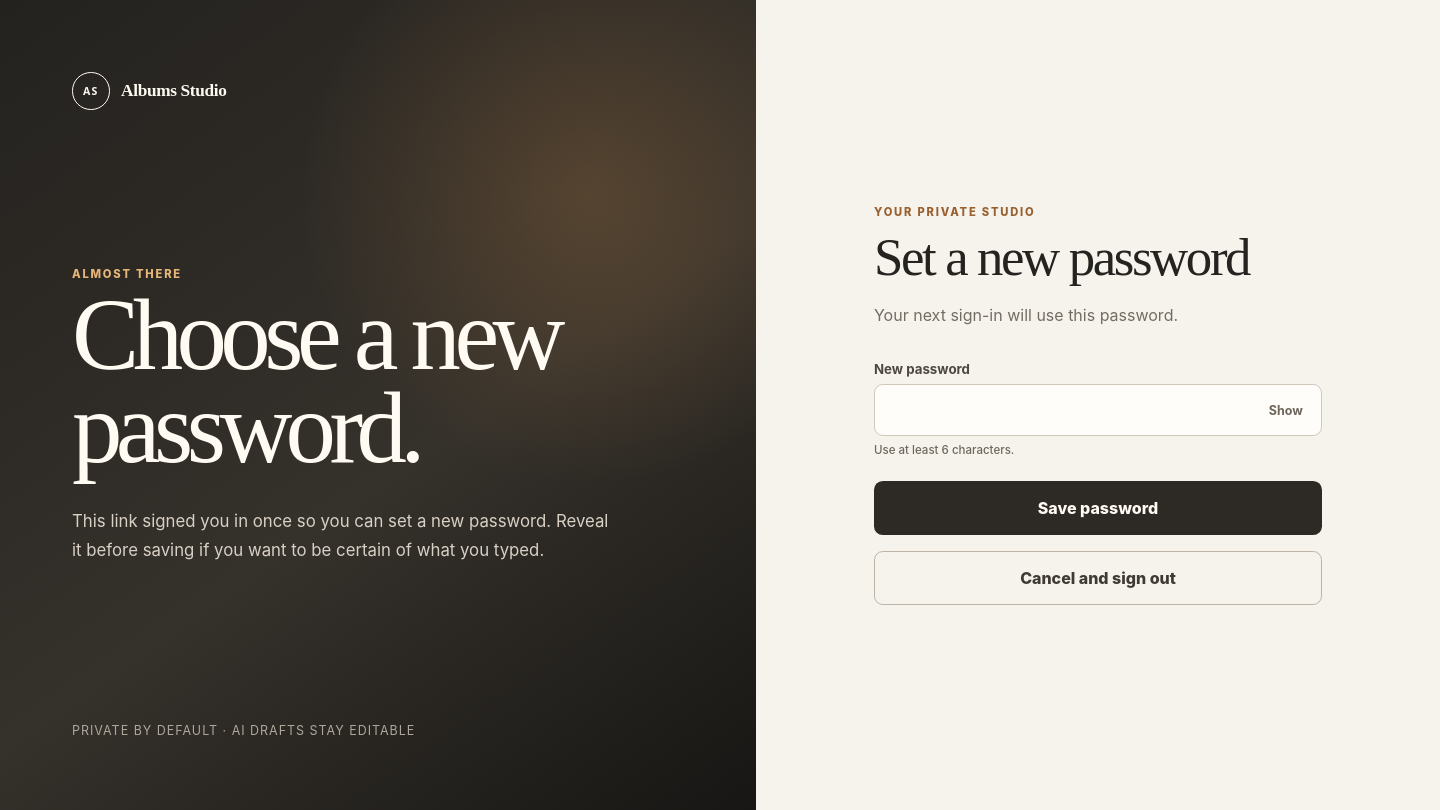
it: App › saves a new password and then opens the library
Later steps or results of the test are not shown.
Expected: the heading "Set a new password" is shown, x1=874 y1=228 x2=1249 y2=286
Type "chosen-password" into the password field labelled "New password" at (1098, 410), box x1=874 y1=384 x2=1322 y2=436
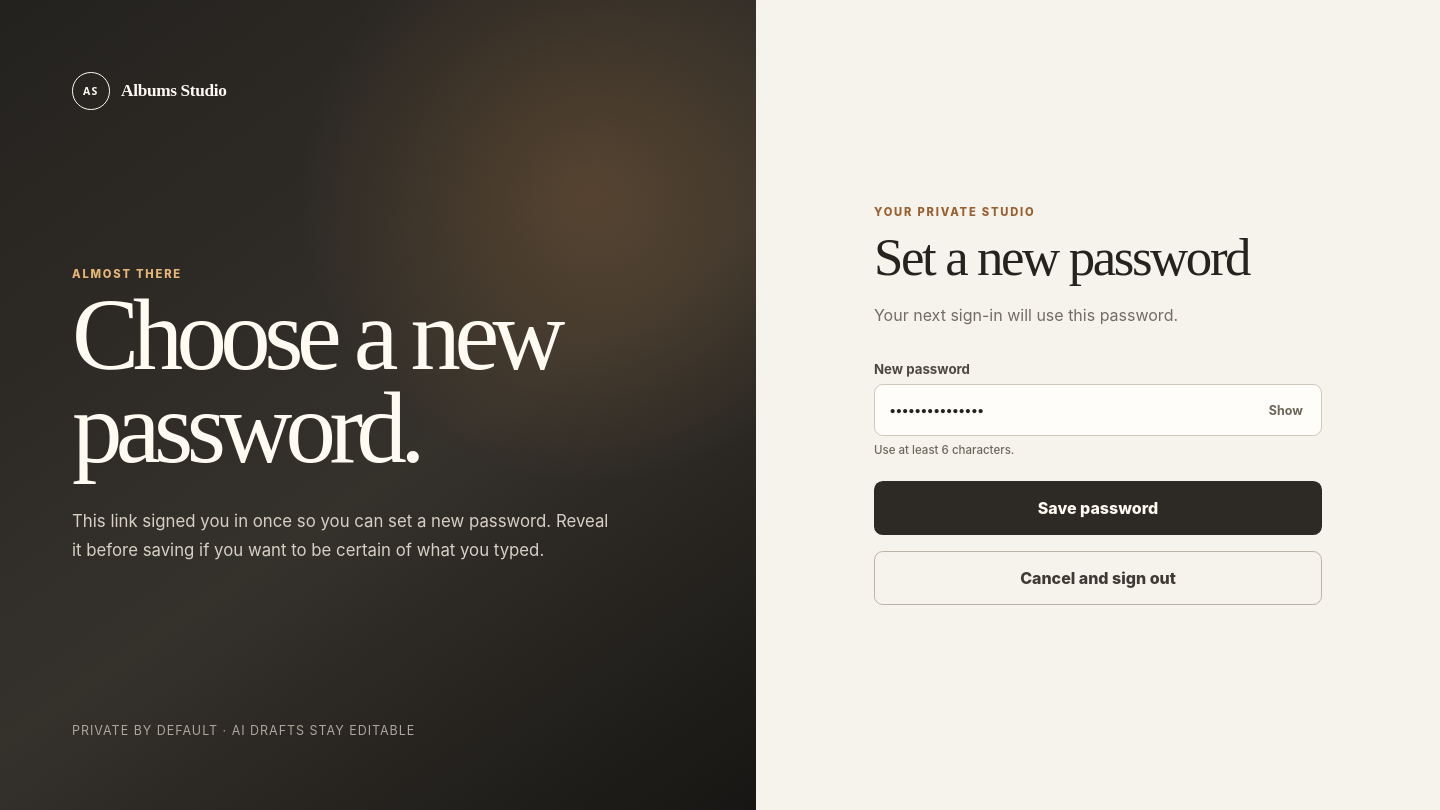
Click the button "Save password" at (1098, 508), box x1=874 y1=481 x2=1322 y2=535
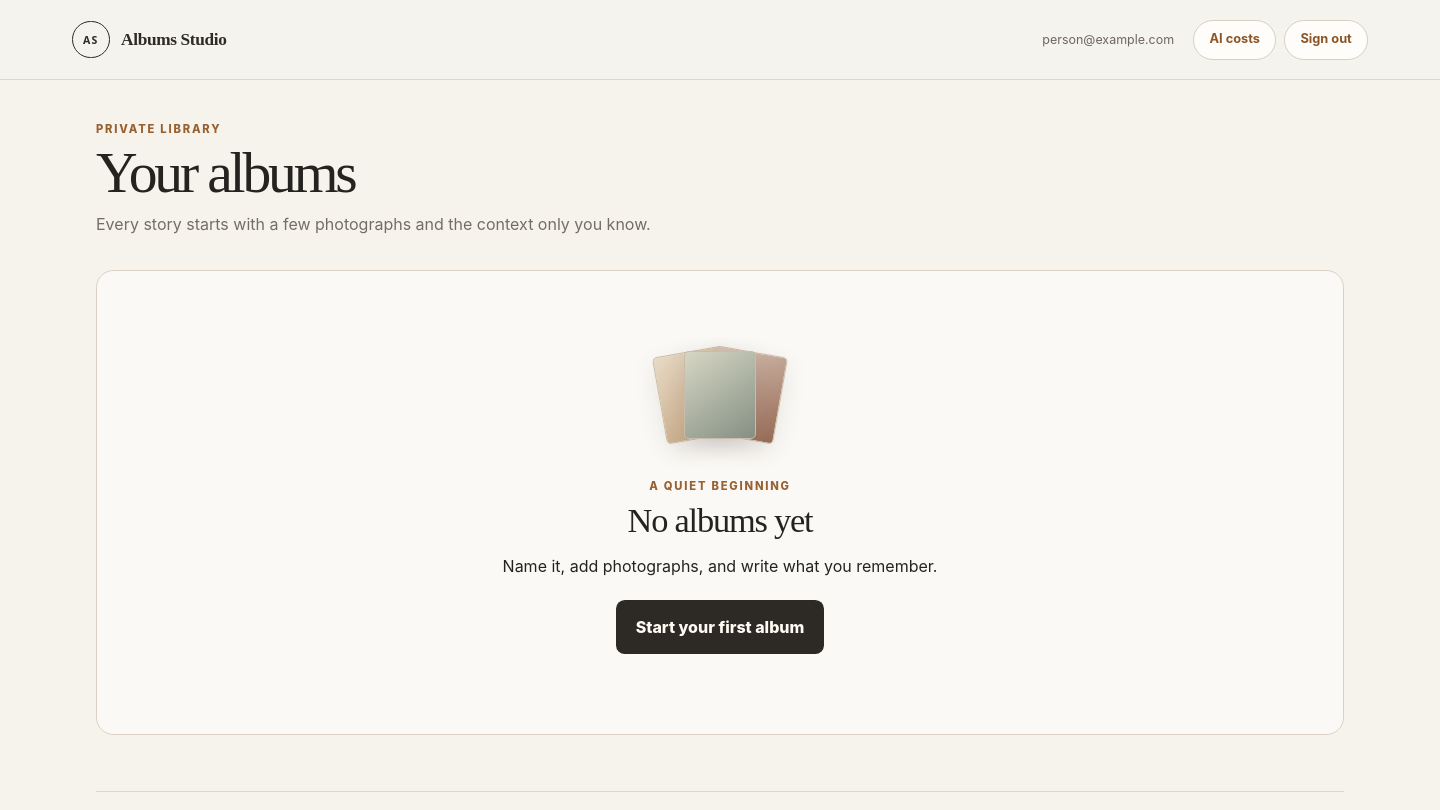
Now the heading "Your albums" is shown, box x1=96 y1=141 x2=354 y2=204
